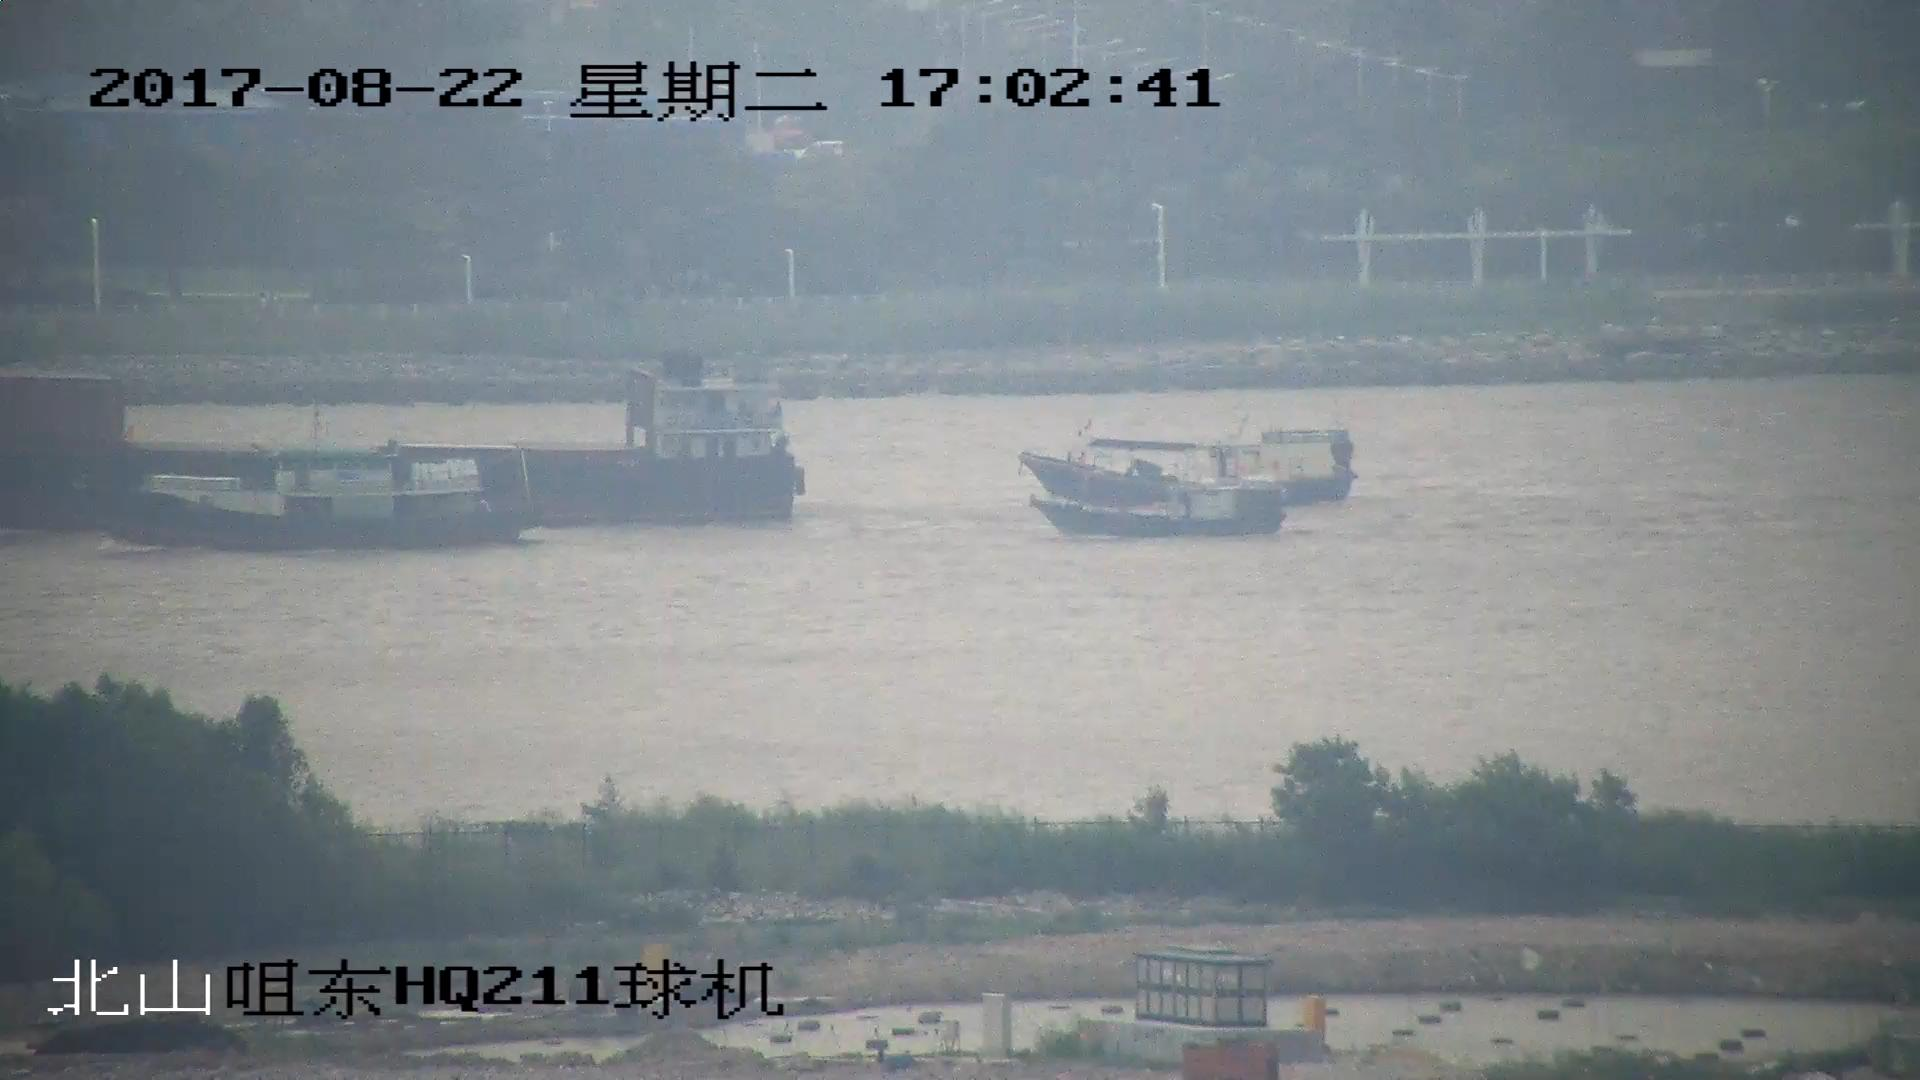fishing boat: (123, 444, 531, 556), (1021, 422, 1357, 507), (1033, 469, 1284, 537)
general cargo ship: (1, 350, 806, 526)
